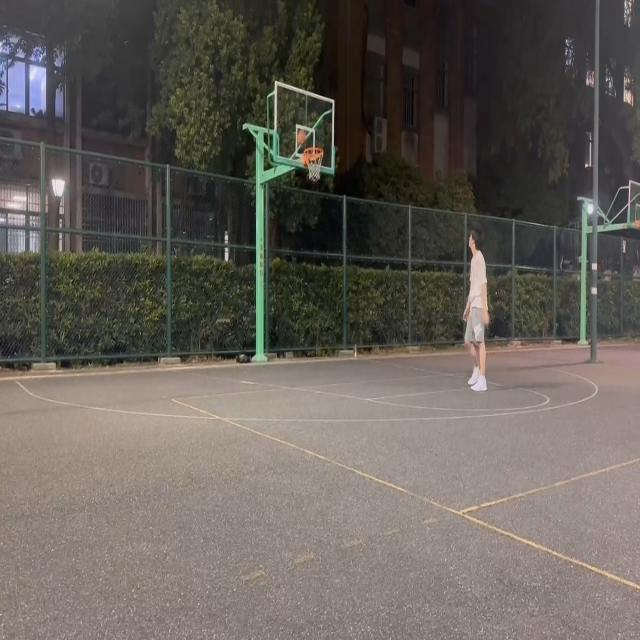basketball: (304, 148, 324, 182)
rim: (298, 130, 306, 145)
